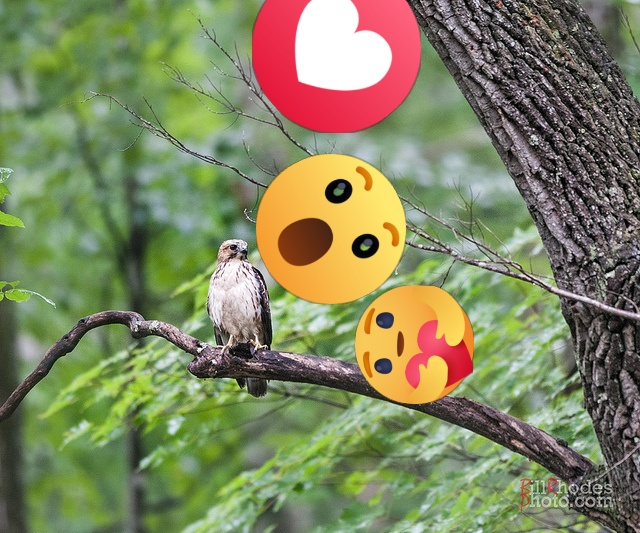care: (355, 285, 474, 404)
love: (252, 0, 421, 133)
wow: (256, 154, 406, 304)
